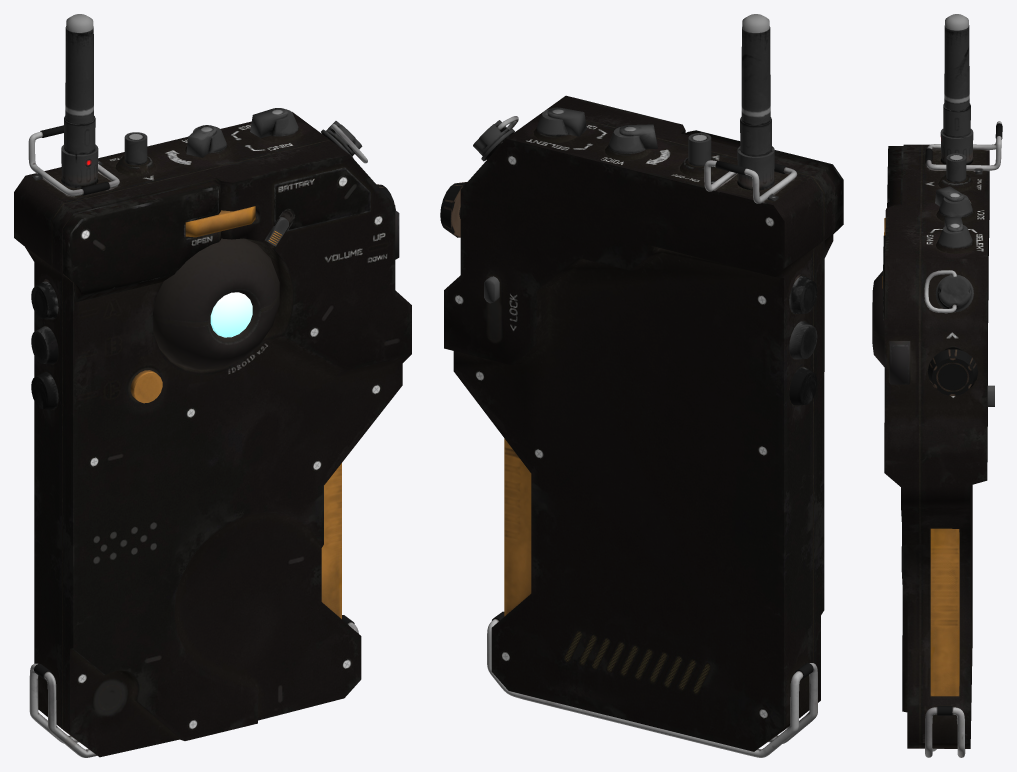
File: idroid.glb
3 views of the same model, side by side, from view 1: azimuth 30°, elevation 25°; view 2: azimuth 150°, elevation 25°; view 3: azimuth 270°, elevation 25° (orthographic). The views are drawn at different scales.
Visible parts, largest first — view 1: Body_Low, Support_Low, DrawingPin_Low; view 2: Body_Low, DrawingPin_Low, Support_Low; view 3: Body_Low, DrawingPin_Low, Support_Low.
Boxes of the visible parts, x1,y1,x2,y2 form: Body_Low: (14, 14, 411, 757); Support_Low: (28, 26, 367, 369); DrawingPin_Low: (29, 108, 395, 757); Body_Low: (444, 14, 834, 751); DrawingPin_Low: (440, 107, 817, 757); Support_Low: (497, 26, 843, 257); Body_Low: (883, 14, 989, 748); DrawingPin_Low: (884, 103, 994, 757); Support_Low: (872, 25, 1002, 366).
Size of the model in its own units: 1.54 by 3.06 by 0.5646.
Materials: 1 (1 with a texture image).
